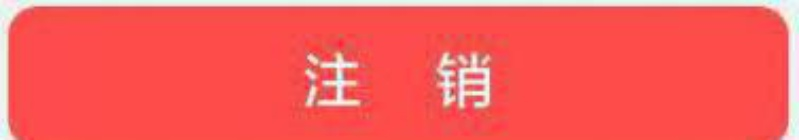Button: (1, 1, 798, 139)
